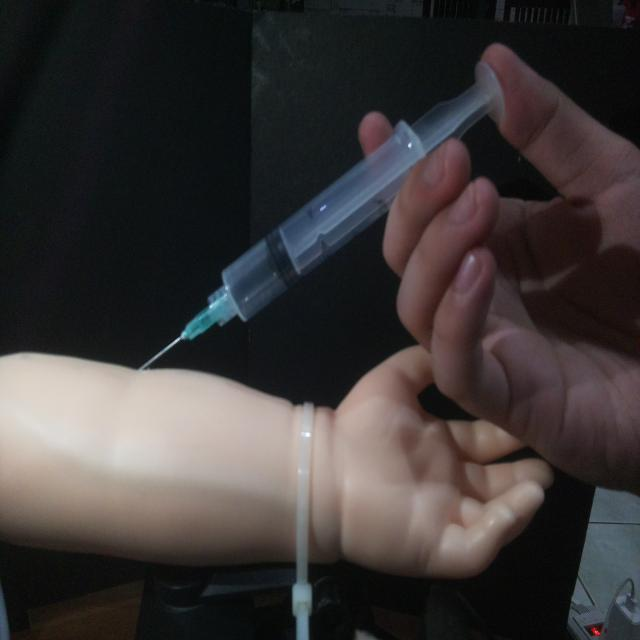28deg: (134, 56, 508, 374)
